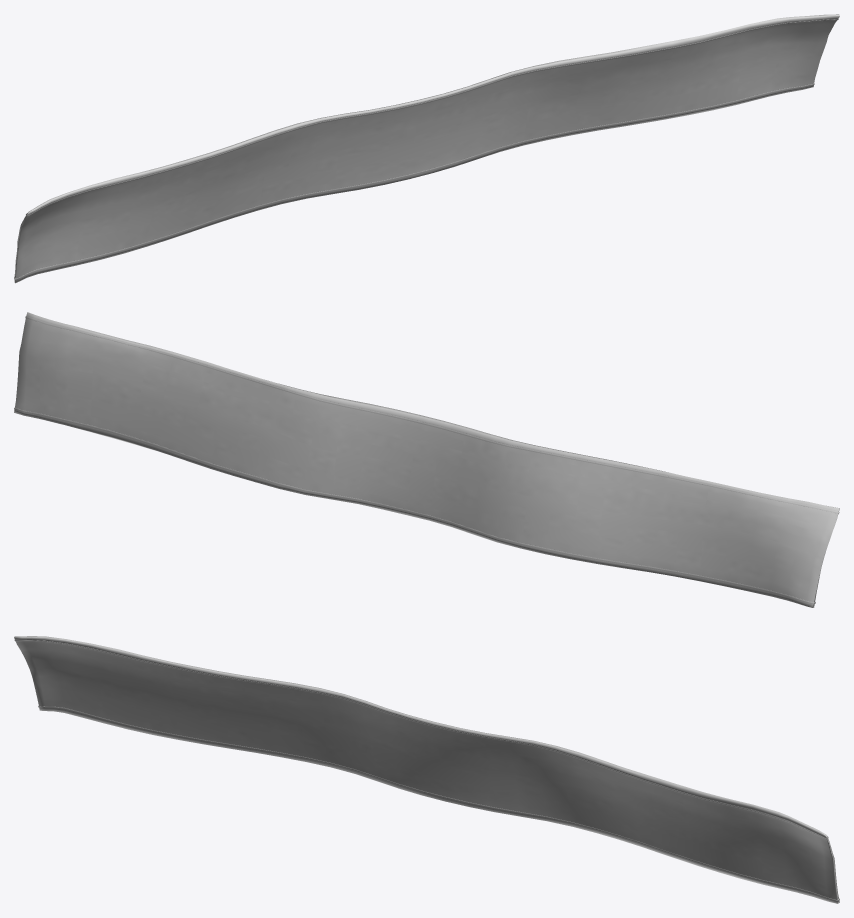
The model's file is Jac_COP_BEHIND_V2.glb.
The picture shows the model from 3 angles, top to bottom: view 1: azimuth 30°, elevation 25°; view 2: azimuth 150°, elevation 25°; view 3: azimuth 330°, elevation 25°; orthographic projection.
Visible parts, largest first — view 1: Jac_COP_BEHIND_V21, Rope1; view 2: Jac_COP_BEHIND_V21, Rope1; view 3: Jac_COP_BEHIND_V21, Rope1.
Boxes of the visible parts, <box> form: Jac_COP_BEHIND_V21: <box>14,14,839,283</box>; Rope1: <box>14,18,838,280</box>; Jac_COP_BEHIND_V21: <box>14,312,839,607</box>; Rope1: <box>14,316,839,604</box>; Jac_COP_BEHIND_V21: <box>14,636,839,903</box>; Rope1: <box>14,640,839,901</box>.
Size of the model in its own units: 0.7746 by 0.0838 by 0.057.
2 materials, 2 textured.
